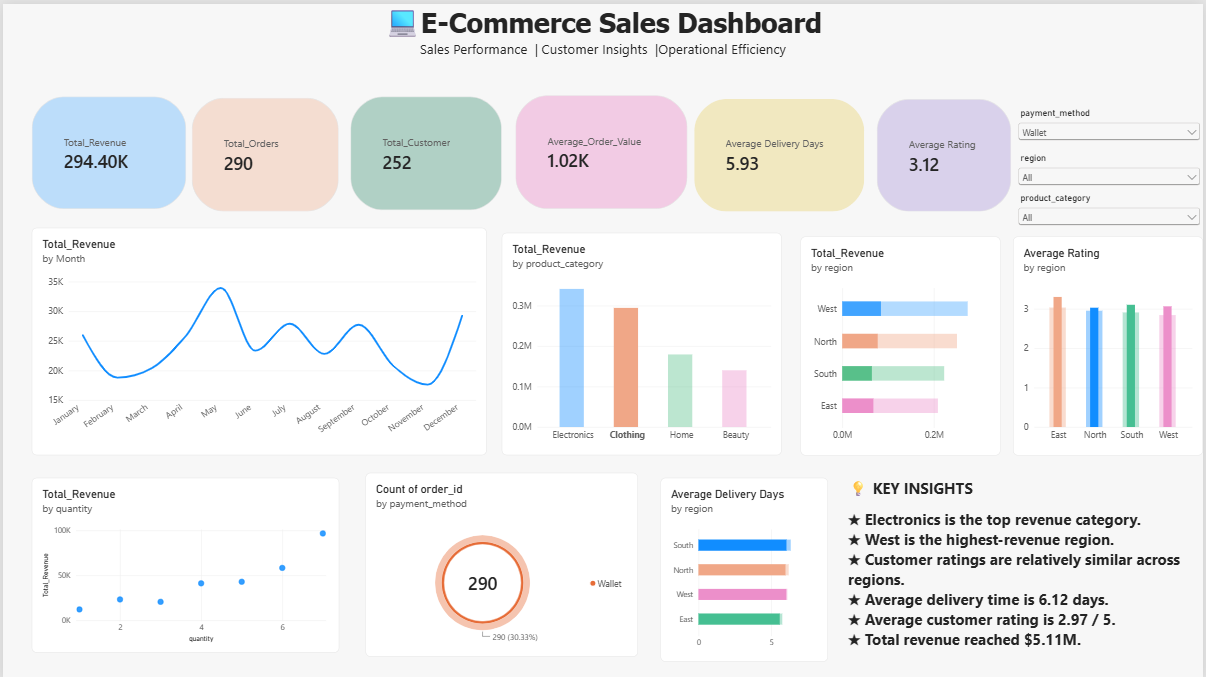

The page's visual inventory and layout, read from the dashboard file:
{"tool":"powerbi","page":{"name":"Page 1","canvas":[1920,1080],"ordinal":0},"visuals":[{"type":"cardVisual","fields":{"Data":["ecommerce_sales_cleaned.Total_Revenue"]},"box":[45,147.5,247.5,180],"z":0},{"type":"cardVisual","fields":{"Data":["ecommerce_sales_cleaned.Total_Orders"]},"box":[302.5,150,235,182.5],"z":1000},{"type":"cardVisual","fields":{"Data":["ecommerce_sales_cleaned.Total_Customer"]},"box":[555,147.5,242.5,182.5],"z":2000},{"type":"cardVisual","fields":{"Data":["ecommerce_sales_cleaned.Average_Order_Value"]},"box":[820,145,275,182.5],"z":3000},{"type":"cardVisual","fields":{"Data":["ecommerce_sales_cleaned.Average Rating"]},"box":[1397.5,152.5,215,180],"z":4000},{"type":"lineChart","title":"Monthly Revenue Trend","fields":{"Category":["ecommerce_sales_cleaned.month.Variation.Date Hierarchy.Month","ecommerce_sales_cleaned.month.Variation.Date Hierarchy.Day"],"Y":["ecommerce_sales_cleaned.Total_Revenue"]},"box":[46,358,728,364],"z":5000},{"type":"clusteredColumnChart","title":"Revenue by Product Category","fields":{"Category":["ecommerce_sales_cleaned.product_category"],"Y":["ecommerce_sales_cleaned.Total_Revenue"]},"box":[798,366,448,356],"z":6000},{"type":"clusteredBarChart","title":"Revenue by Region","fields":{"Category":["ecommerce_sales_cleaned.region"],"Y":["ecommerce_sales_cleaned.Total_Revenue"]},"box":[1276,372,320,350],"z":7000},{"type":"scatterChart","title":"Quantity vs Revenue","fields":{"X":["ecommerce_sales_cleaned.quantity"],"Y":["ecommerce_sales_cleaned.Total_Revenue"]},"box":[46,758,491.7,280],"z":8000},{"type":"donutChart","title":"Orders by Payment Method","fields":{"Category":["ecommerce_sales_cleaned.payment_method"],"Y":["CountNonNull(ecommerce_sales_cleaned.order_id)"]},"box":[580,750,436,294],"z":9000},{"type":"clusteredColumnChart","title":"Average Customer Rating by Region","fields":{"Category":["ecommerce_sales_cleaned.region"],"Y":["ecommerce_sales_cleaned.Average Rating"]},"box":[1616,372,304,350],"z":10000},{"type":"clusteredBarChart","title":"Average Delivery Time by Region","fields":{"Category":["ecommerce_sales_cleaned.region"],"Y":["ecommerce_sales_cleaned.Average Delivery Days"]},"box":[1052,758,268,294],"z":11000},{"type":"textbox","box":[0,0,1920,110],"z":12000},{"type":"textbox","box":[1280,1052,280,28],"z":13000},{"type":"textbox","box":[1352,758,568,294],"z":14000},{"type":"cardVisual","fields":{"Data":["ecommerce_sales_cleaned.Average Delivery Days"]},"box":[1105,152.5,272.5,180],"z":15000},{"type":"slicer","fields":{"Values":["ecommerce_sales_cleaned.product_category"]},"box":[1620,302.5,300,70],"z":15001},{"type":"slicer","fields":{"Values":["ecommerce_sales_cleaned.region"]},"box":[1620,237.5,300,60],"z":15002},{"type":"slicer","fields":{"Values":["ecommerce_sales_cleaned.payment_method"]},"box":[1620,165,300,75],"z":15003}]}

Visuals, with their boxes in screenshot pixels (x1, y1, x2, y2), scaled from the page's 1920x1080 canvas onto the 1206x677 screenshot:
cardVisual - ecommerce_sales_cleaned.Total_Revenue: 28,92,184,205
cardVisual - ecommerce_sales_cleaned.Total_Orders: 190,94,338,208
cardVisual - ecommerce_sales_cleaned.Total_Customer: 349,92,501,207
cardVisual - ecommerce_sales_cleaned.Average_Order_Value: 515,91,688,205
cardVisual - ecommerce_sales_cleaned.Average Rating: 878,96,1013,208
"Monthly Revenue Trend" lineChart: 29,224,486,453
"Revenue by Product Category" clusteredColumnChart: 501,229,783,453
"Revenue by Region" clusteredBarChart: 801,233,1002,453
"Quantity vs Revenue" scatterChart: 29,475,338,651
"Orders by Payment Method" donutChart: 364,470,638,654
"Average Customer Rating by Region" clusteredColumnChart: 1015,233,1205,453
"Average Delivery Time by Region" clusteredBarChart: 661,475,829,659
textbox: 0,0,1205,69
textbox: 804,659,980,676
textbox: 849,475,1205,659
cardVisual - ecommerce_sales_cleaned.Average Delivery Days: 694,96,865,208
slicer - ecommerce_sales_cleaned.product_category: 1018,190,1205,234
slicer - ecommerce_sales_cleaned.region: 1018,149,1205,186
slicer - ecommerce_sales_cleaned.payment_method: 1018,103,1205,150
